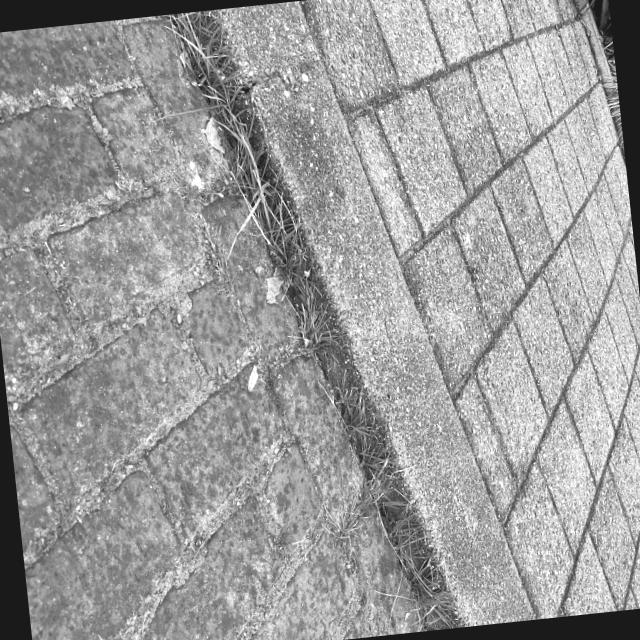pavement: (138, 0, 632, 519)
weed: (183, 248, 638, 591)
weedling: (81, 510, 547, 639)
